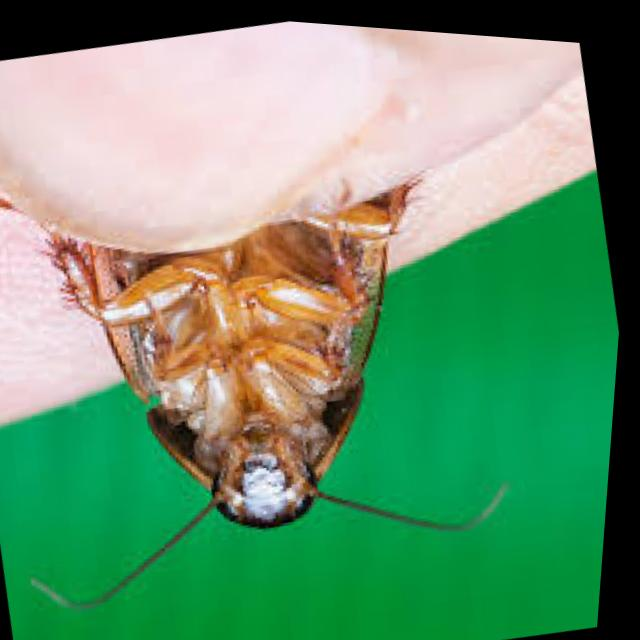Cockroach: (0, 117, 511, 640)
